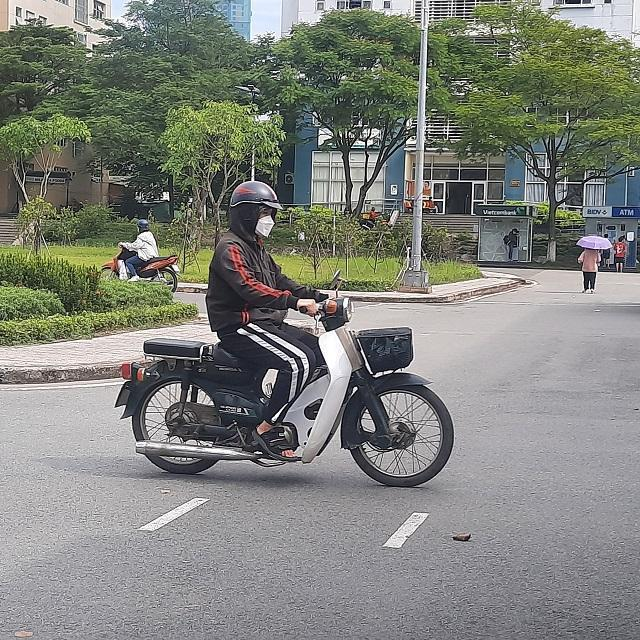Helmet: (232, 179, 284, 241)
